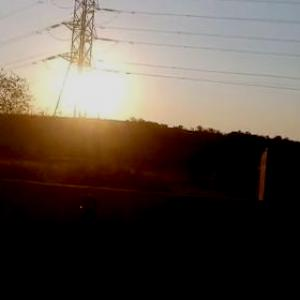follow: (49, 183, 112, 299)
